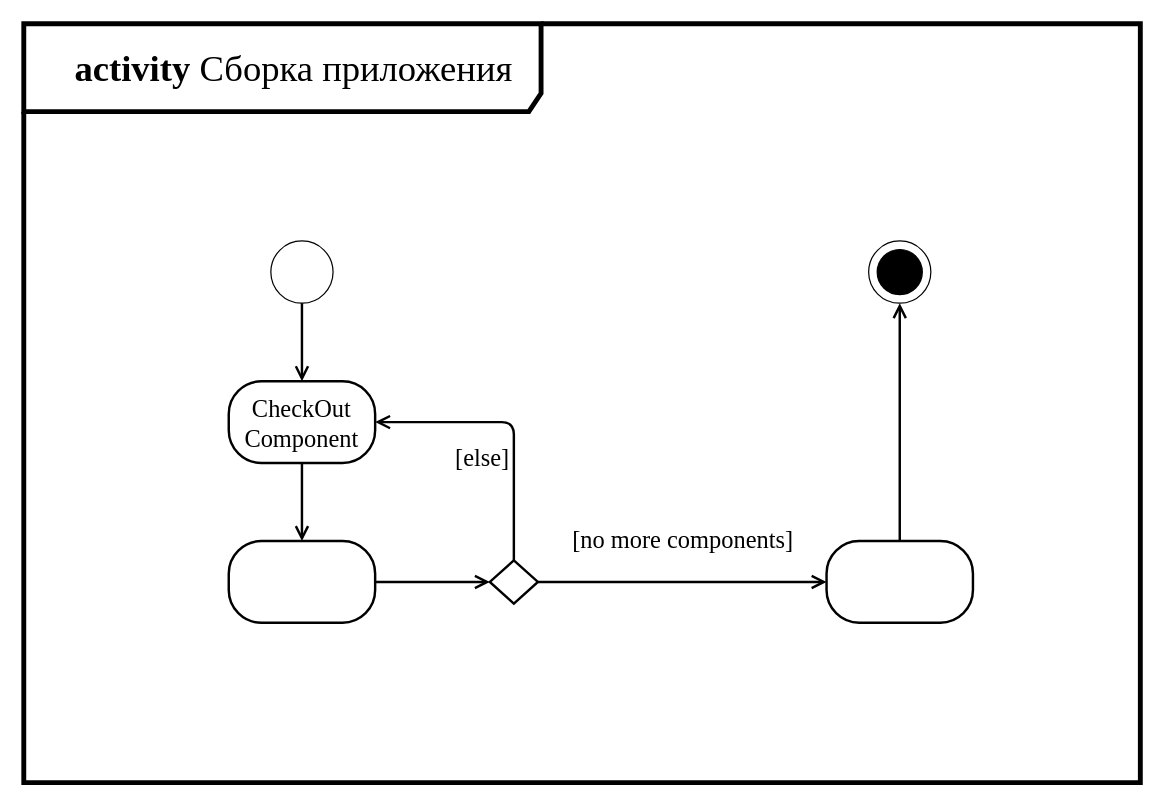
Some shapes in this 1164 by 805 pixel diagram are drawn without their labels. The shapes that lost their labels are listed below. From the top down, each one's centre as x and y in pixels, then its label:
At (x=301, y=581): "Build Component".
At (x=899, y=581): "Build Application".
